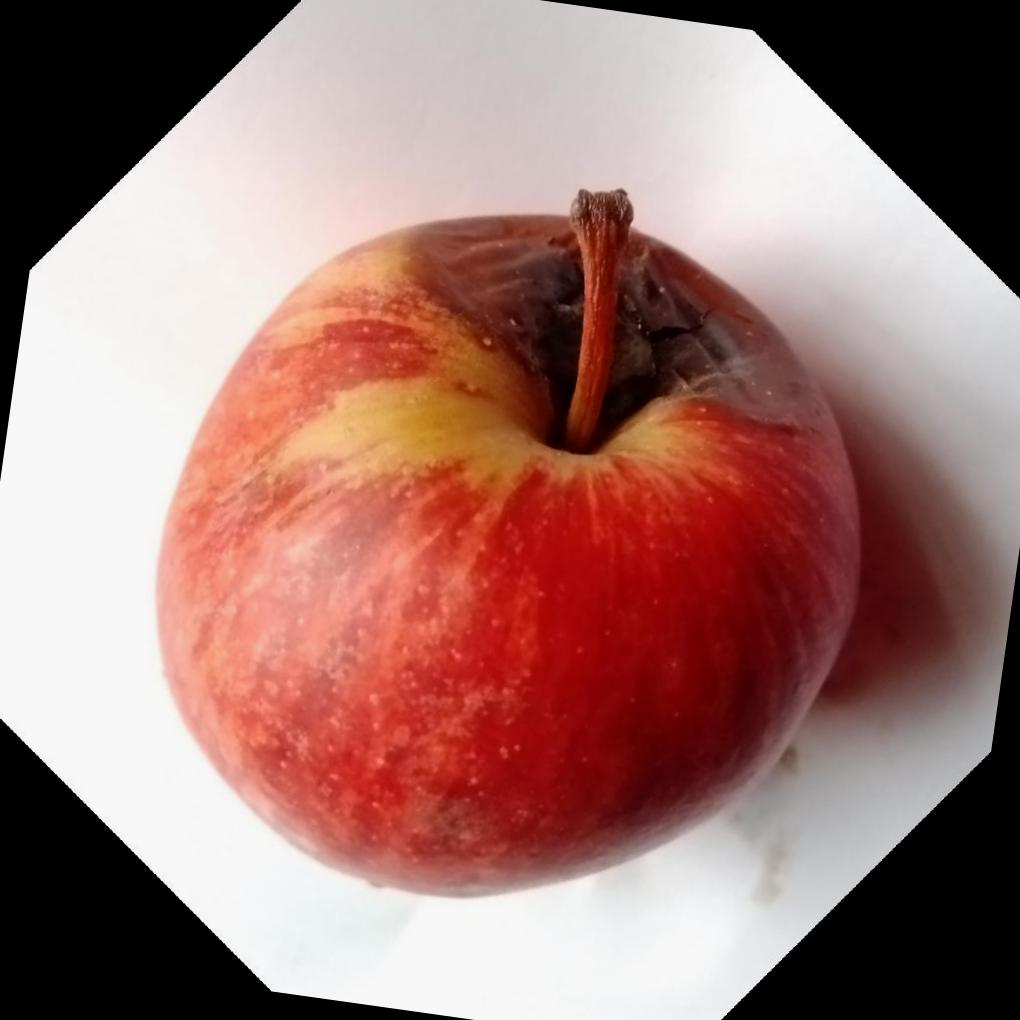FreshOrange: (154, 186, 866, 895)
